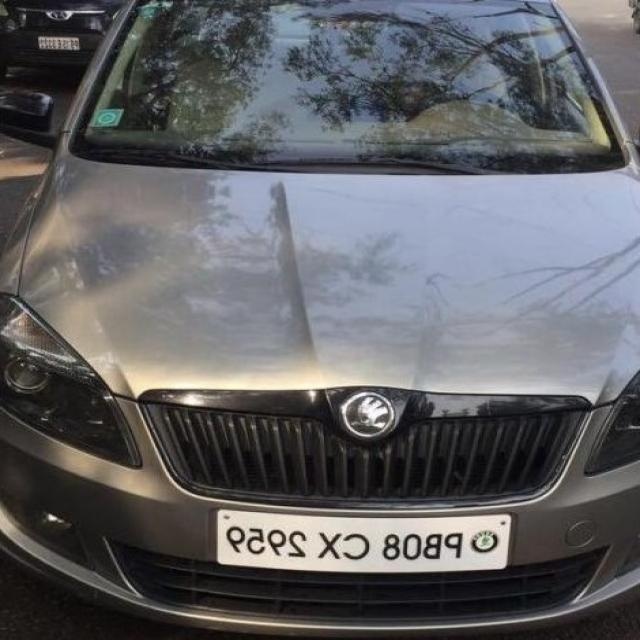number-plate: (209, 518, 508, 566)
